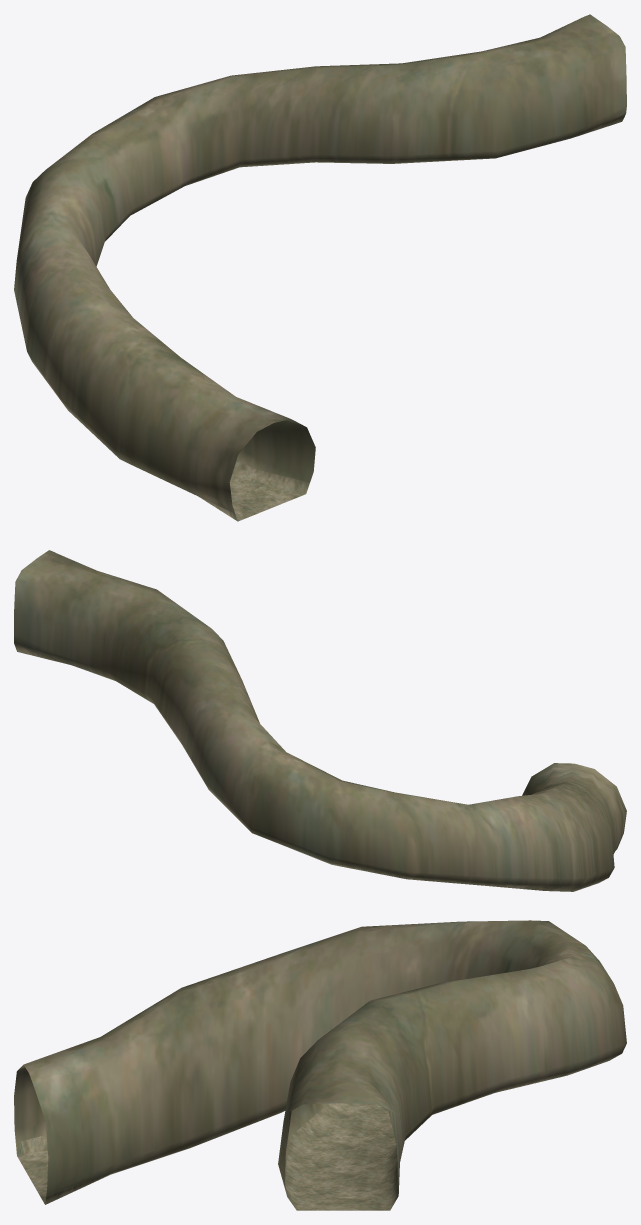
Rendered from OVERHILL_A_01_OH_CAVE_005.fbx.
3 views of the same model, one above another, from view 1: azimuth 30°, elevation 25°; view 2: azimuth 150°, elevation 25°; view 3: azimuth 270°, elevation 25° (orthographic). The views are drawn at different scales.
Parts seen in each view (by area): view 1: OVERHILL_A_01_OH_CAVE_005; view 2: OVERHILL_A_01_OH_CAVE_005; view 3: OVERHILL_A_01_OH_CAVE_005.
Part boxes in pixels (left/top/right/bottom): OVERHILL_A_01_OH_CAVE_005: left=14, top=14, right=626, bottom=521; OVERHILL_A_01_OH_CAVE_005: left=14, top=550, right=626, bottom=891; OVERHILL_A_01_OH_CAVE_005: left=14, top=920, right=626, bottom=1210.
Size of the model in its own units: 222793 by 105978 by 164146.
1 material, 1 textured.
